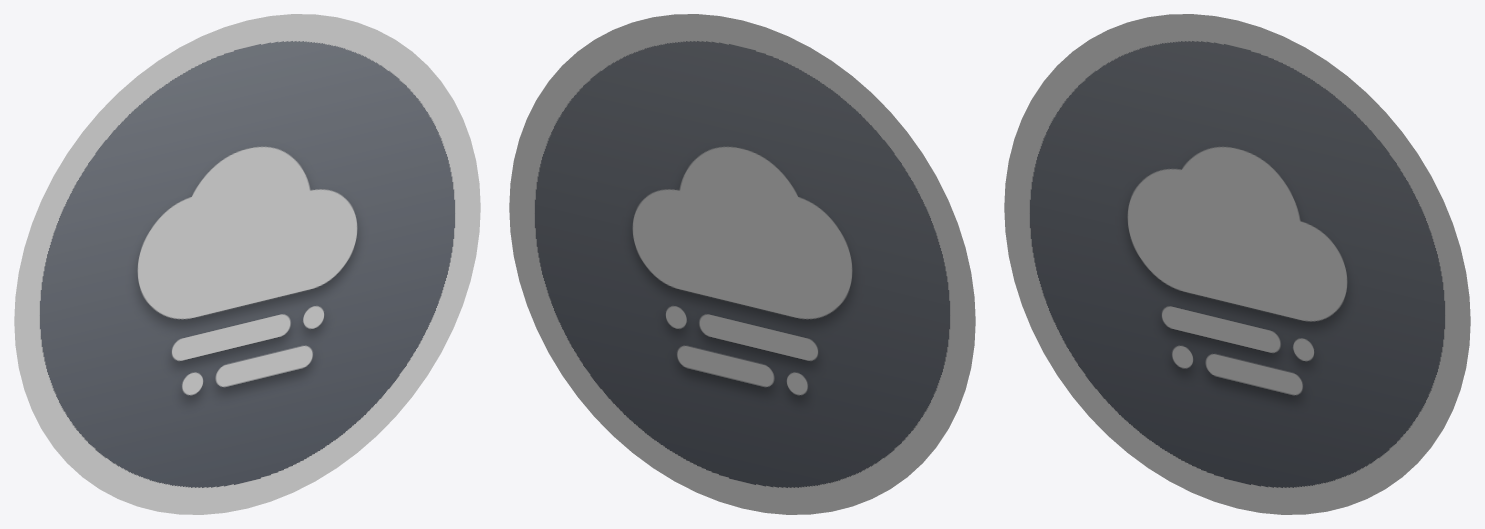
File: smoke.obj
3 renders of one model, left to right at view 1: azimuth 30°, elevation 25°; view 2: azimuth 150°, elevation 25°; view 3: azimuth 330°, elevation 25°, orthographic.
Visible parts, largest first — view 1: badge; view 2: badge; view 3: badge.
Boxes of the visible parts, x1,y1,x2,y2 form: badge: (14, 14, 480, 514); badge: (509, 14, 975, 514); badge: (1004, 14, 1470, 514).
Size of the model in its own units: 1 by 1 by 0.
1 material, 1 textured.
